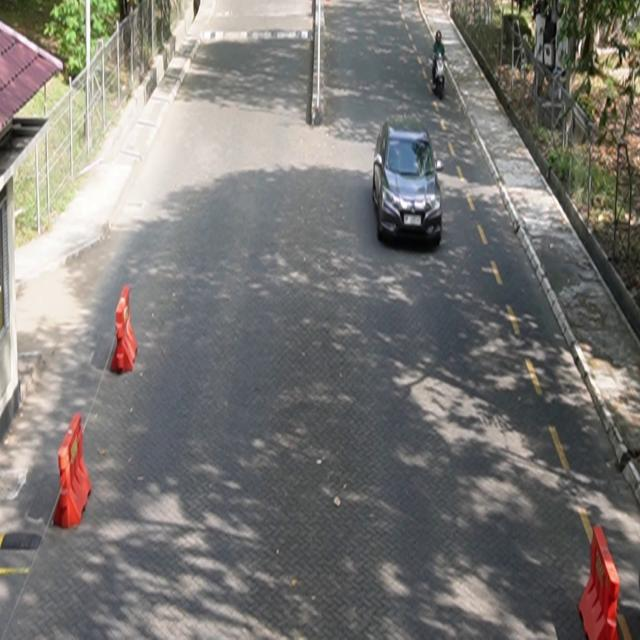car: (373, 116, 444, 248)
